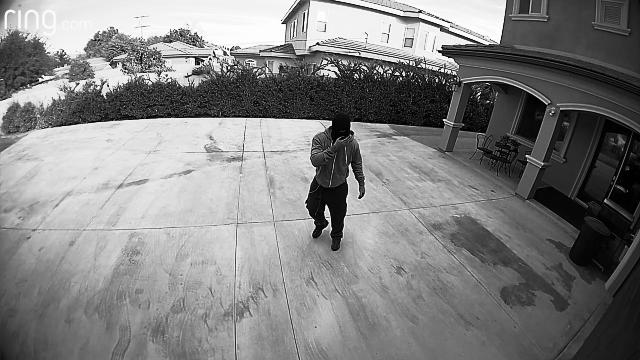berjalan: (306, 111, 369, 253)
